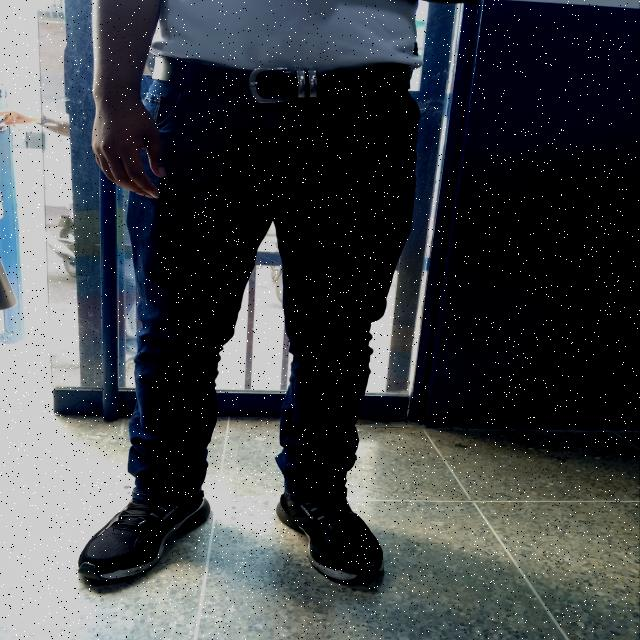pantalon_oscuro: (125, 80, 422, 507)
